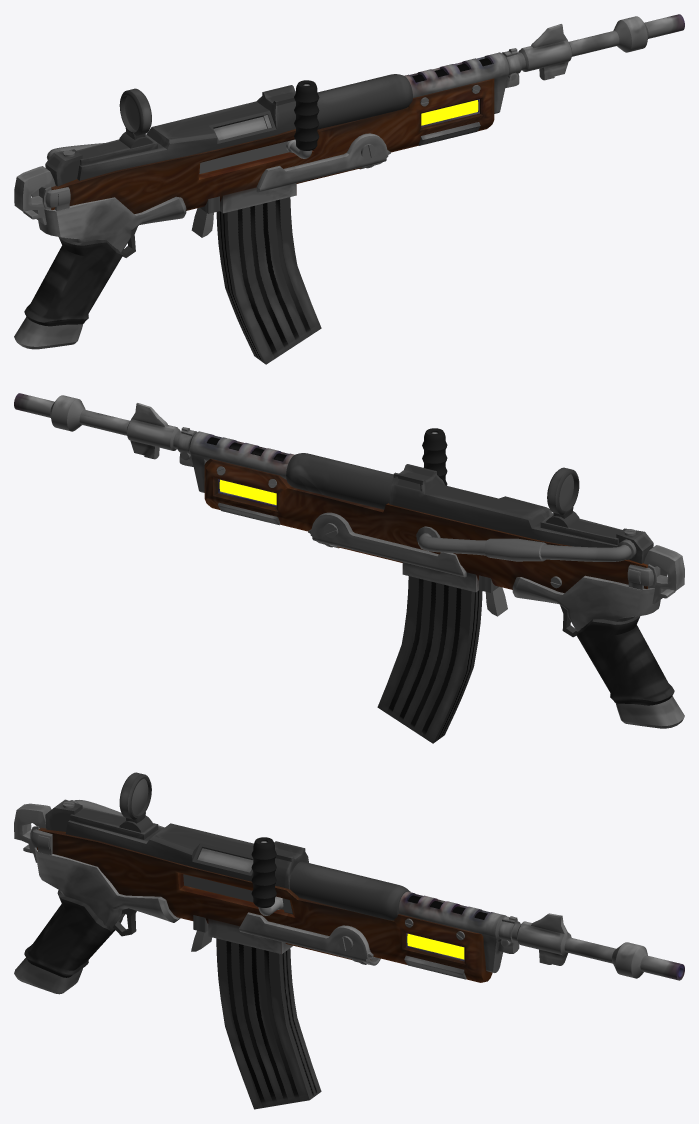
The model's file is wm_sf_ratrifle.fbx.
3 renders of one model, top to bottom at view 1: azimuth 30°, elevation 25°; view 2: azimuth 150°, elevation 25°; view 3: azimuth 330°, elevation 25°, orthographic.
Visible parts, largest first — view 1: ratrifle_LOD0; view 2: ratrifle_LOD0; view 3: ratrifle_LOD0.
Part boxes in pixels (x1,y1,x2,y2): ratrifle_LOD0: (14, 14, 684, 364); ratrifle_LOD0: (14, 393, 684, 743); ratrifle_LOD0: (14, 772, 684, 1109).
Size of what is drawn, in the model's own units: 141 by 61.08 by 18.41.
